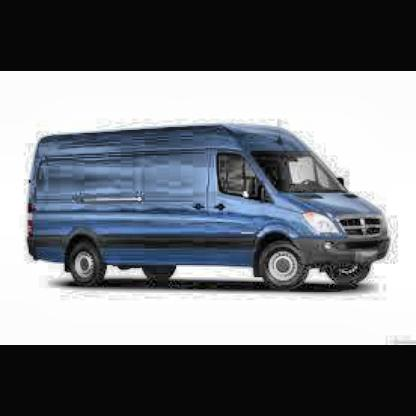Dodge Sprinter Cargo Van 2009: (24, 124, 394, 292)
